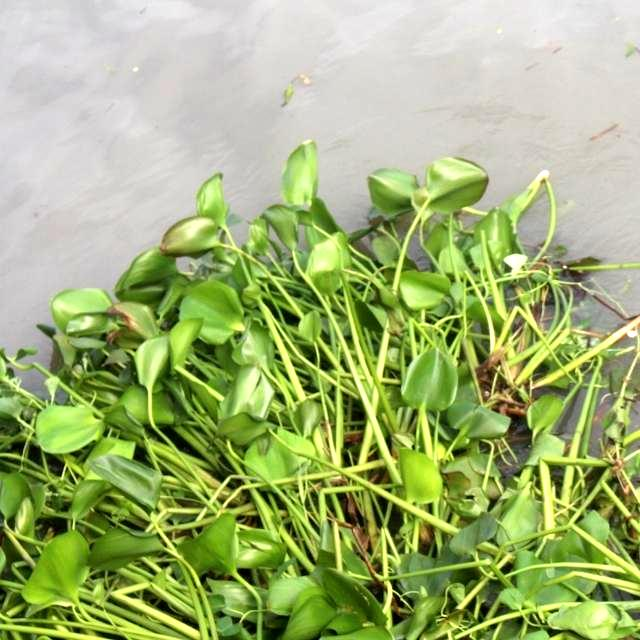water-hyacinth: (4, 158, 640, 640)
